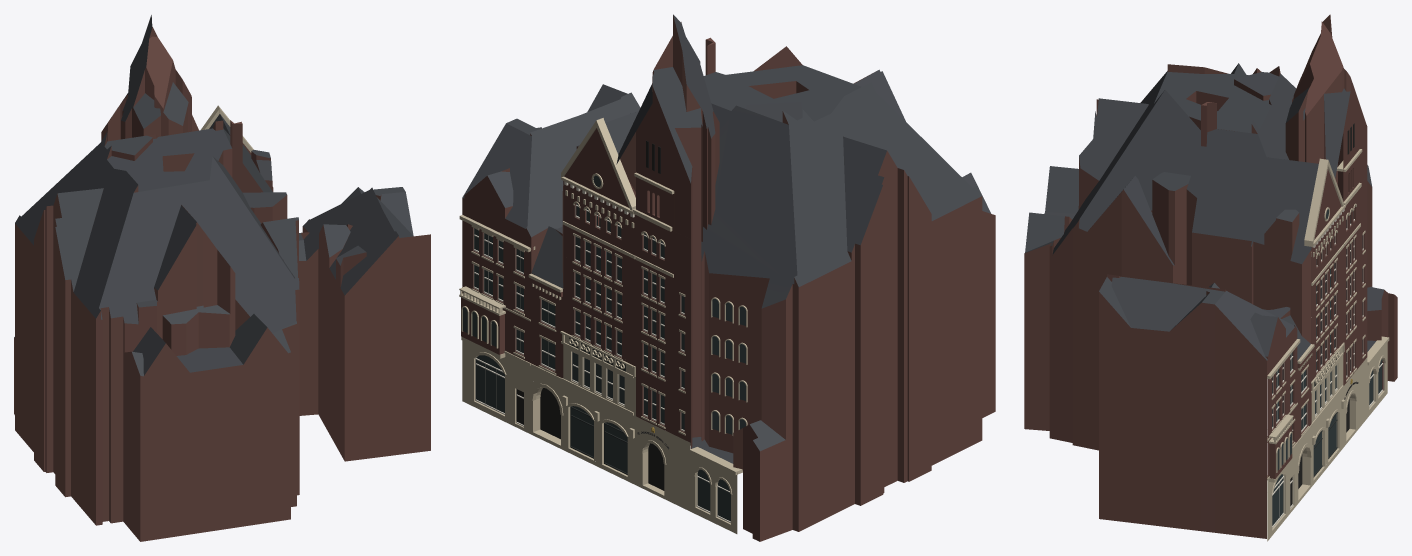
The model's file is industrieele-groote-club.glb.
3 views of the same model, side by side, from view 1: azimuth 30°, elevation 25°; view 2: azimuth 150°, elevation 25°; view 3: azimuth 270°, elevation 25° (orthographic). The views are drawn at different scales.
Parts seen in each view (by area): view 1: industrieele-groote-club; view 2: industrieele-groote-club; view 3: industrieele-groote-club.
Boxes of the visible parts, box(x1,y1,x2,y2) form: industrieele-groote-club: box(14, 15, 430, 541); industrieele-groote-club: box(459, 14, 995, 541); industrieele-groote-club: box(1024, 14, 1397, 541).
Bounding box in the file's own units: 41.19 × 42.88 × 34.43.
